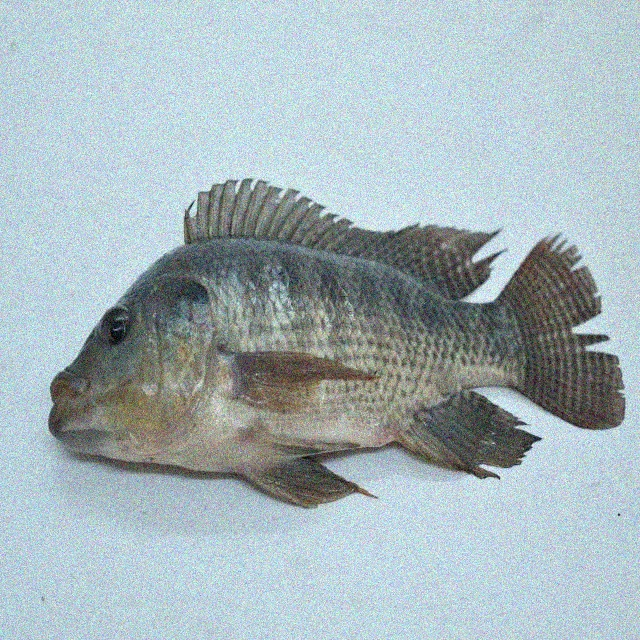Healthy Fish: (42, 178, 630, 507)
